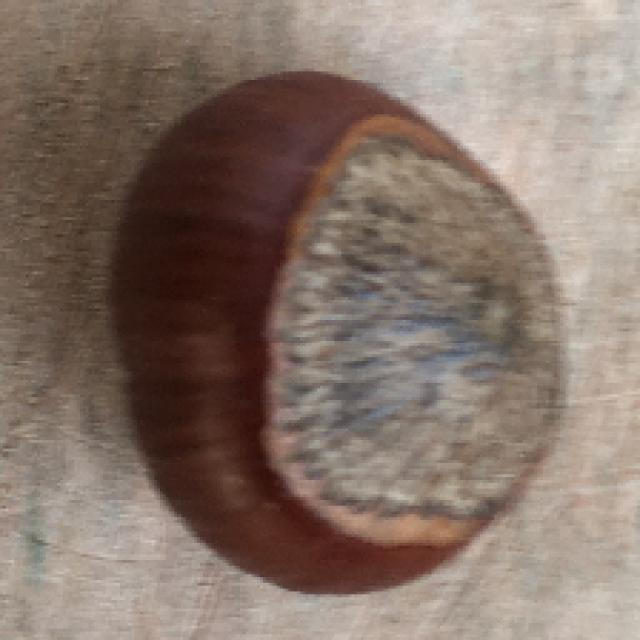qualityHazelnut: (114, 68, 572, 600)
